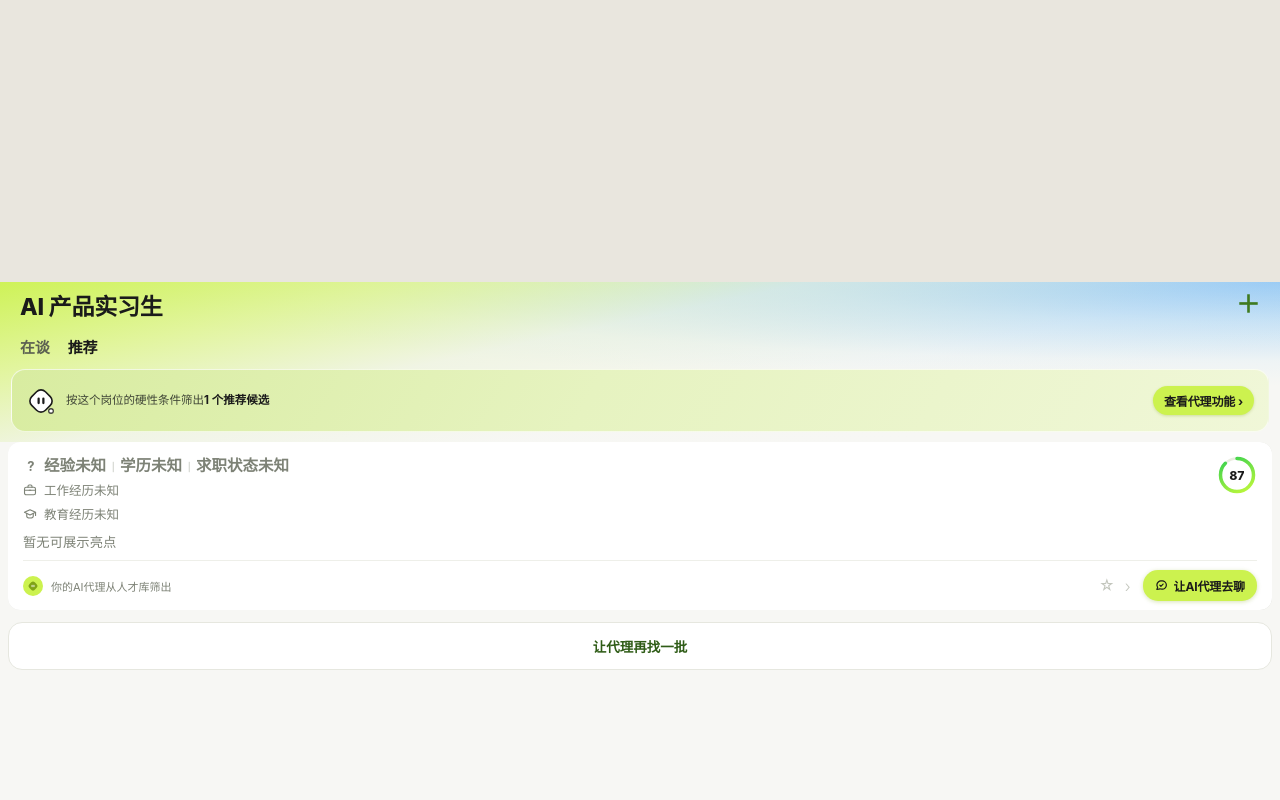
Test: 候选推荐 · P4 招聘发现（Backend） › 真实 invalid_response：当前岗位落本地持久「数据状态异常」块并禁用刷新
(page scrolled)
Click the button "让代理再找一批" at {"x": 640, "y": 646}, box x1=8 y1=622 x2=1272 y2=670
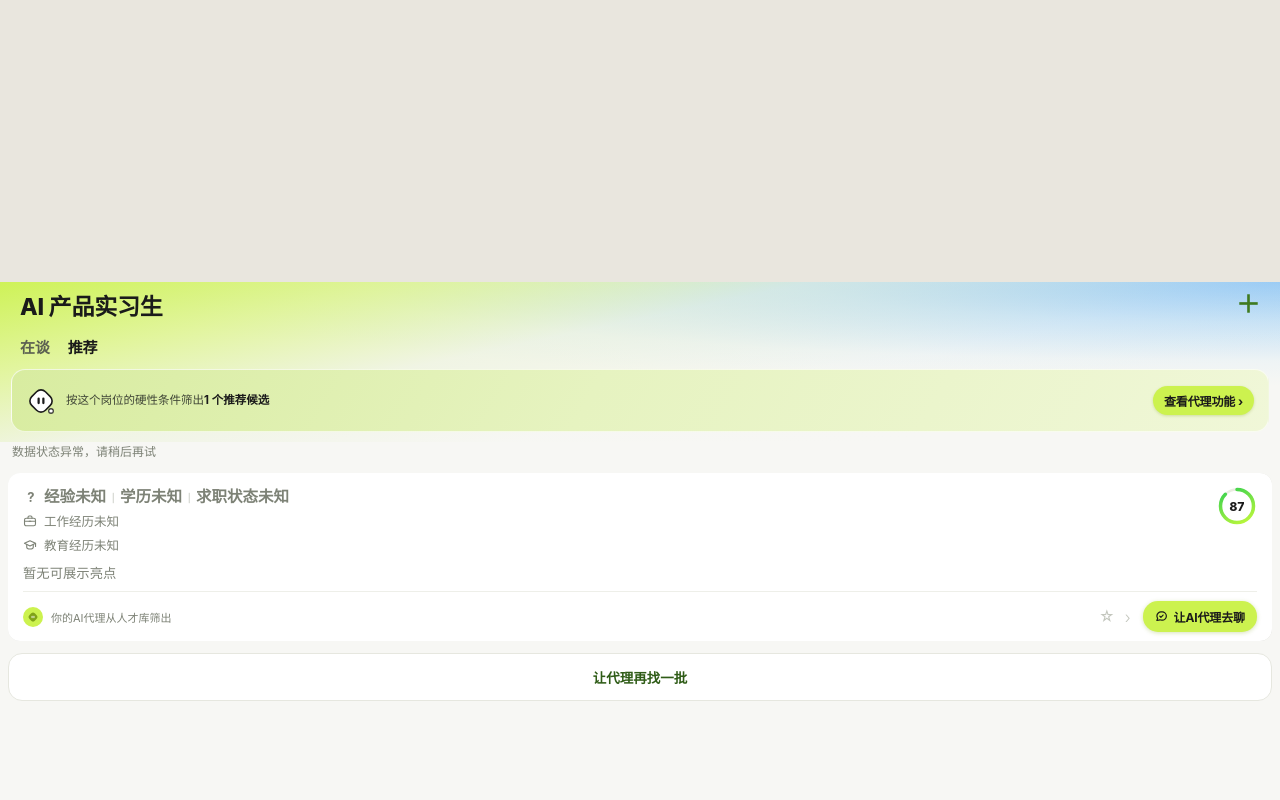
Expected: the text "数据状态异常，请稍后再试" is shown, x1=12 y1=444 x2=156 y2=459
Expected: the button "让代理再找一批" is disabled, x1=8 y1=653 x2=1272 y2=701
